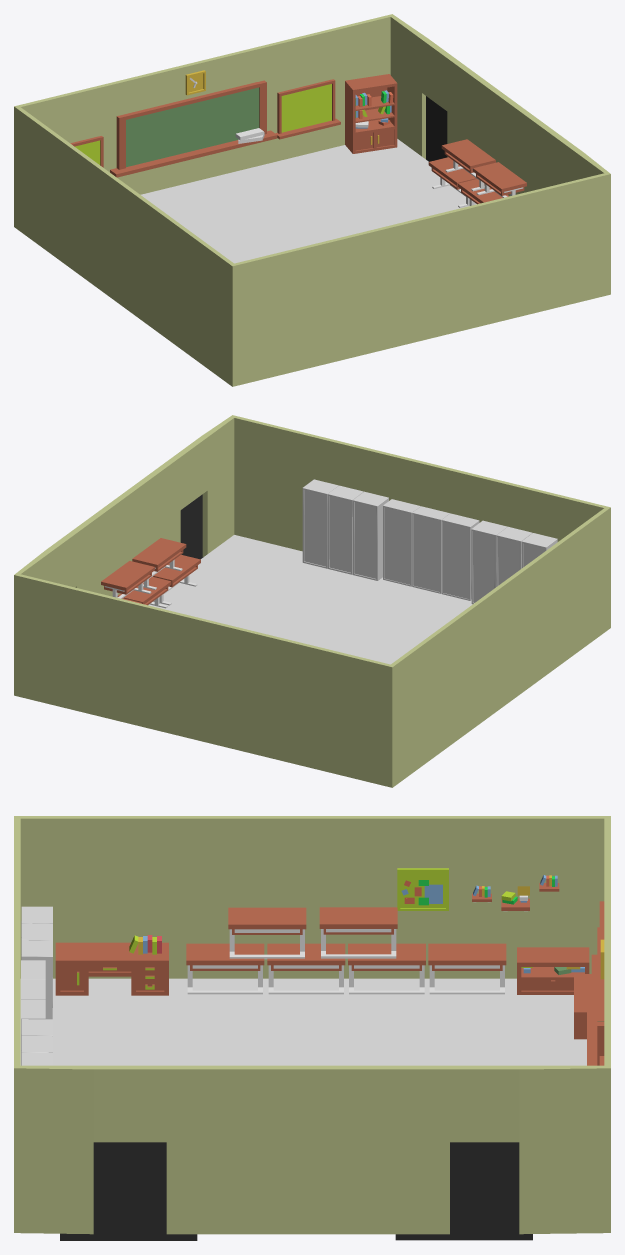
Rendered from ruang kelas.fbx.
3 views of the same model, one above another, from view 1: azimuth 30°, elevation 25°; view 2: azimuth 150°, elevation 25°; view 3: azimuth 270°, elevation 25° (orthographic). The views are drawn at different scales.
Visible parts, largest first — view 1: Cube, Cube.001, _gltfNode_45.019, _gltfNode_504, _gltfNode_58.001, _gltfNode_262.013, _gltfNode_262.007, Plane.001, _gltfNode_262.008, _gltfNode_262.009, _gltfNode_58; view 2: Cube, Cube.001, cabinet.001, cabinet.009, cabinet.005, cabinet.006, cabinet.008, cabinet.007, cabinet.002, cabinet.003, _gltfNode_262.007, Plane (+4 smaller); view 3: Cube, Cube.001, Plane, Plane.001, _gltfNode_166, _gltfNode_153, _gltfNode_262.006, _gltfNode_262.001, _gltfNode_262.005, _gltfNode_262.004, _gltfNode_262.002, _gltfNode_262.003 (+7 smaller).
Boxes of the visible parts, x1,y1,x2,y2 form: Cube: [14, 14, 610, 386]; Cube.001: [140, 139, 476, 263]; _gltfNode_45.019: [110, 80, 277, 177]; _gltfNode_504: [345, 74, 397, 153]; _gltfNode_58.001: [275, 79, 340, 139]; _gltfNode_262.013: [473, 162, 526, 197]; _gltfNode_262.007: [441, 139, 495, 191]; Plane.001: [426, 96, 447, 161]; _gltfNode_262.008: [428, 157, 476, 207]; _gltfNode_262.009: [458, 179, 508, 205]; _gltfNode_58: [70, 136, 103, 167]; Cube: [14, 415, 610, 787]; Cube.001: [149, 535, 472, 664]; cabinet.001: [441, 513, 479, 600]; cabinet.009: [352, 491, 388, 580]; cabinet.005: [412, 506, 449, 593]; cabinet.006: [383, 499, 420, 586]; cabinet.008: [327, 485, 363, 574]; cabinet.007: [302, 479, 338, 568]; cabinet.002: [471, 520, 507, 604]; cabinet.003: [496, 526, 532, 586]; _gltfNode_262.007: [101, 561, 154, 598]; Plane: [180, 494, 203, 559]; Cube: [14, 816, 610, 1234]; Cube.001: [20, 978, 586, 1065]; Plane: [60, 1142, 197, 1240]; Plane.001: [395, 1142, 532, 1240]; _gltfNode_166: [55, 935, 168, 995]; _gltfNode_153: [517, 947, 589, 994]; _gltfNode_262.006: [228, 907, 306, 959]; _gltfNode_262.001: [428, 943, 506, 994]; _gltfNode_262.005: [319, 907, 397, 958]; _gltfNode_262.004: [186, 943, 264, 994]; _gltfNode_262.002: [348, 943, 425, 994]; _gltfNode_262.003: [267, 943, 345, 994].
Size of the model in its own units: 874 by 277 by 870.
